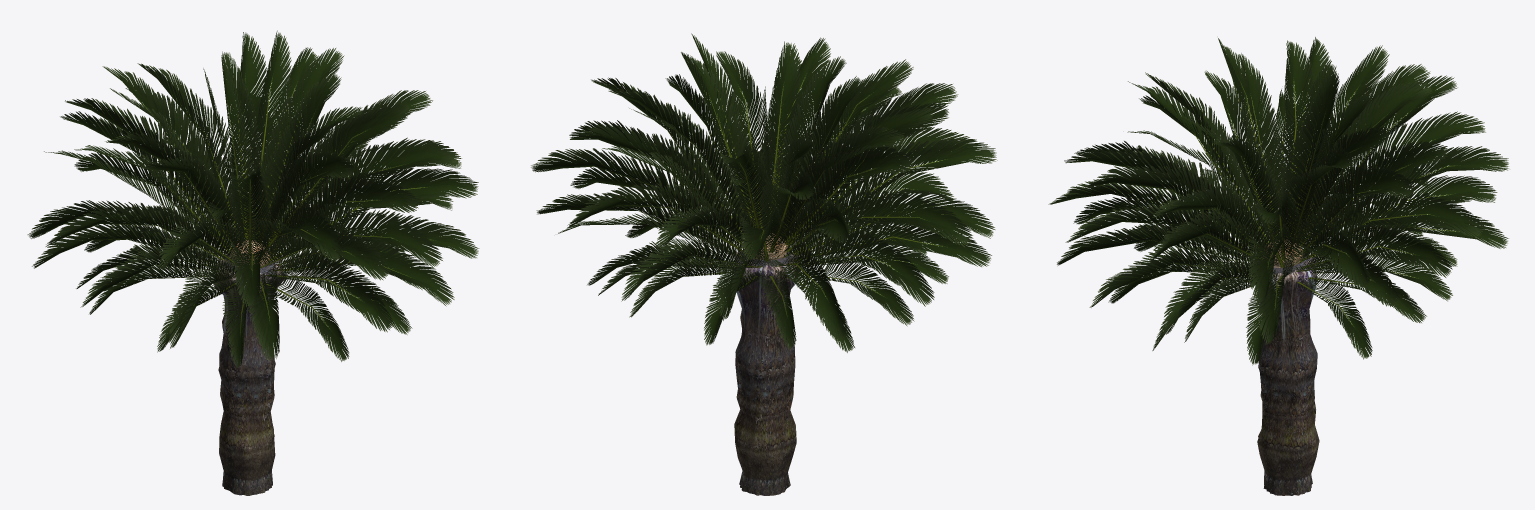
File: cycas.glb
3 renders of one model, left to right at view 1: azimuth 30°, elevation 25°; view 2: azimuth 150°, elevation 25°; view 3: azimuth 270°, elevation 25°, orthographic.
Visible parts, largest first — view 1: Mesh1 CYCAS_REVOLUTA_RT_Defintion_001_2 CYCAS_REVOLUTA_RT_De, Mesh69 CYCAS_REVOLUTA_RT_Defintion_2_001_2 CYCAS_REVOLUTA_RT; view 2: Mesh1 CYCAS_REVOLUTA_RT_Defintion_001_2 CYCAS_REVOLUTA_RT_De, Mesh69 CYCAS_REVOLUTA_RT_Defintion_2_001_2 CYCAS_REVOLUTA_RT; view 3: Mesh1 CYCAS_REVOLUTA_RT_Defintion_001_2 CYCAS_REVOLUTA_RT_De, Mesh69 CYCAS_REVOLUTA_RT_Defintion_2_001_2 CYCAS_REVOLUTA_RT.
Part boxes in pixels (x1,y1,x2,y2): Mesh1 CYCAS_REVOLUTA_RT_Defintion_001_2 CYCAS_REVOLUTA_RT_De: [27, 30, 479, 367]; Mesh69 CYCAS_REVOLUTA_RT_Defintion_2_001_2 CYCAS_REVOLUTA_RT: [212, 252, 287, 495]; Mesh1 CYCAS_REVOLUTA_RT_Defintion_001_2 CYCAS_REVOLUTA_RT_De: [531, 33, 997, 352]; Mesh69 CYCAS_REVOLUTA_RT_Defintion_2_001_2 CYCAS_REVOLUTA_RT: [733, 250, 800, 495]; Mesh1 CYCAS_REVOLUTA_RT_Defintion_001_2 CYCAS_REVOLUTA_RT_De: [1048, 37, 1508, 365]; Mesh69 CYCAS_REVOLUTA_RT_Defintion_2_001_2 CYCAS_REVOLUTA_RT: [1256, 253, 1319, 495].
Size of the model in its own units: 2.79 by 2.64 by 2.74.
3 materials, 3 textured.
